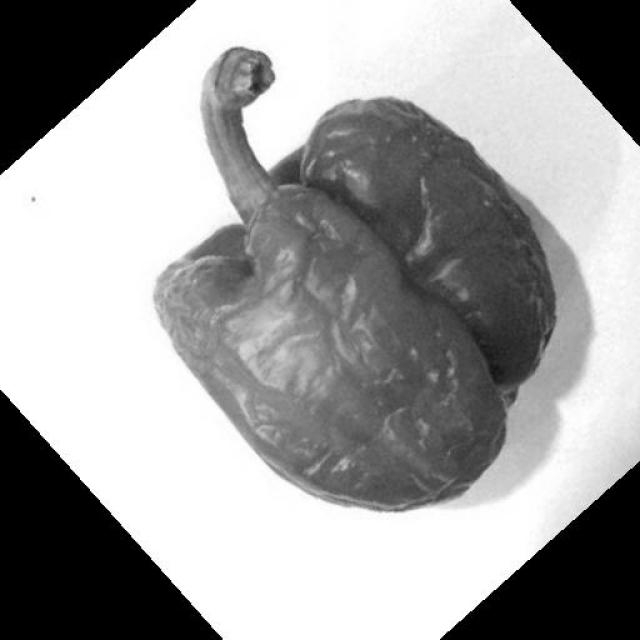Stale_Capsicum: (146, 42, 579, 466)
